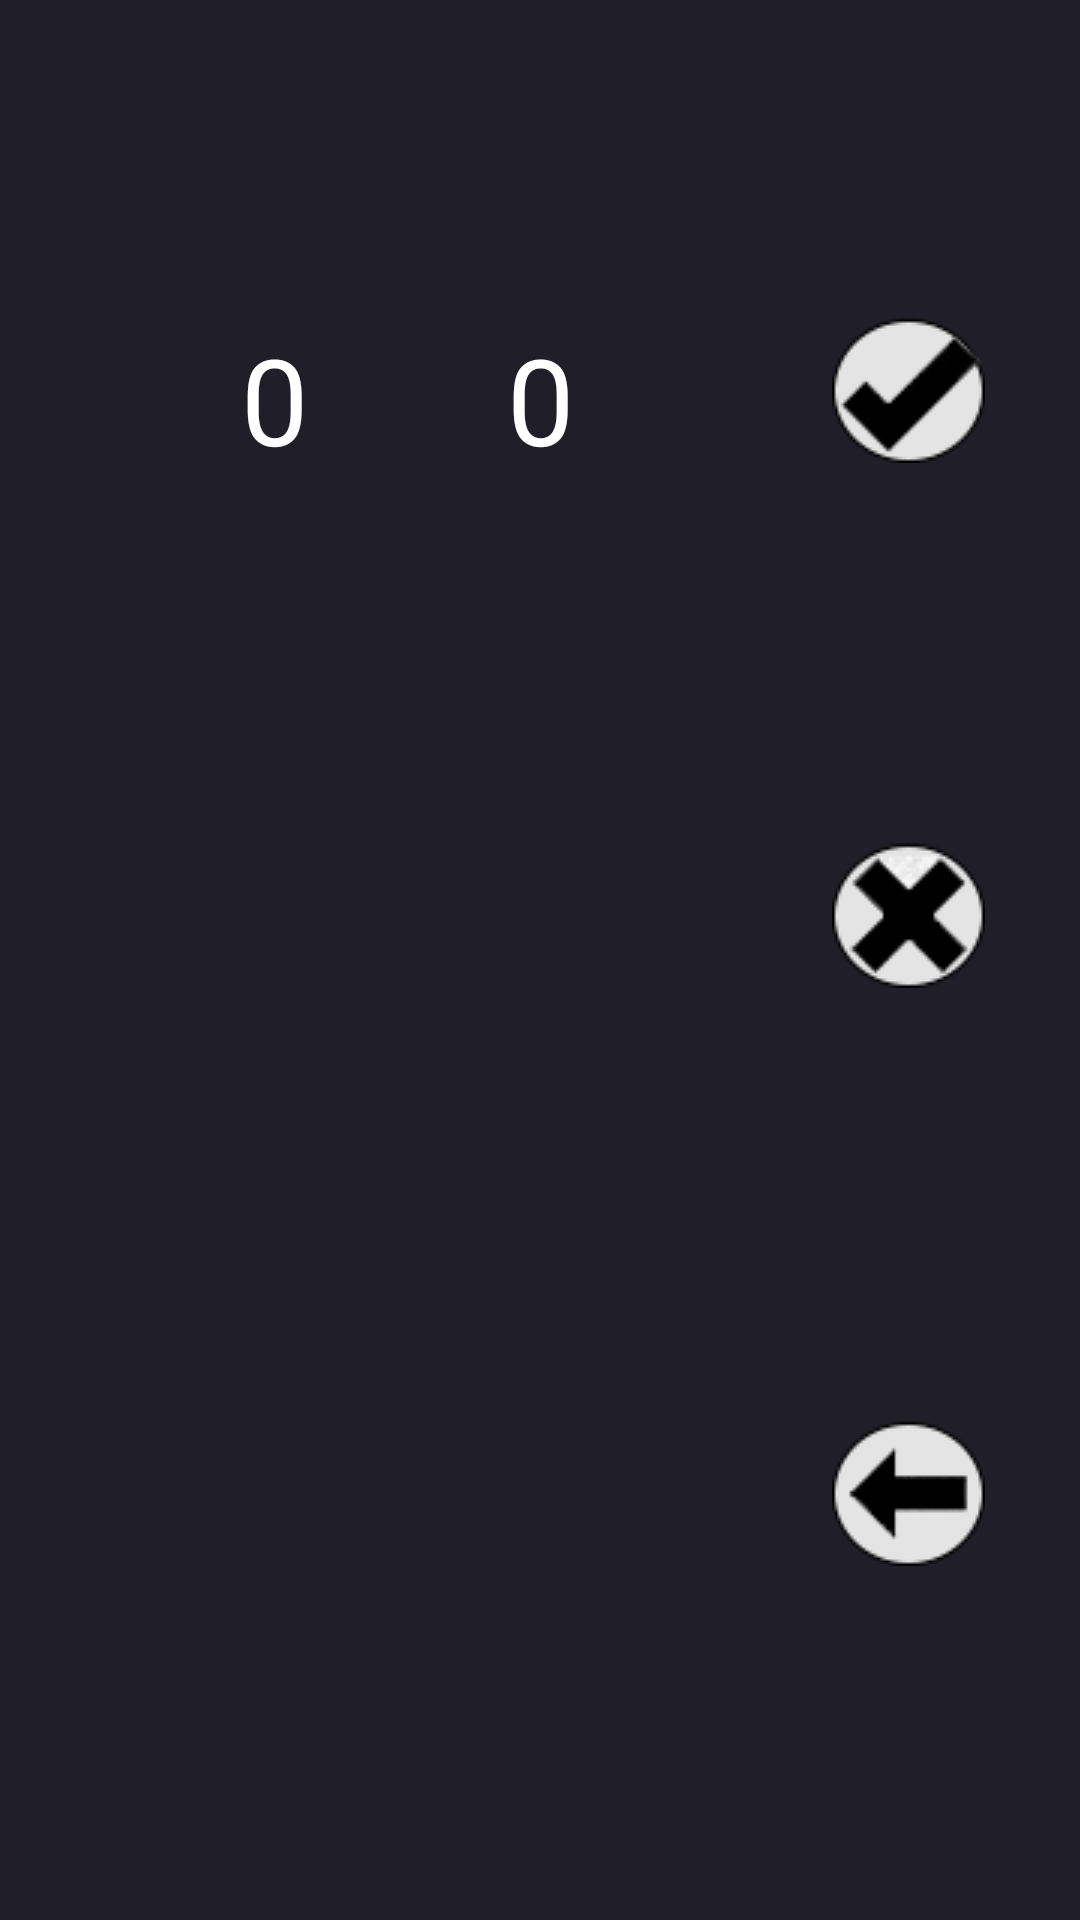

Icons on this 1080 x 1920 Android screen, each with the point to tap as point (x, y):
back: point (908, 1494)
